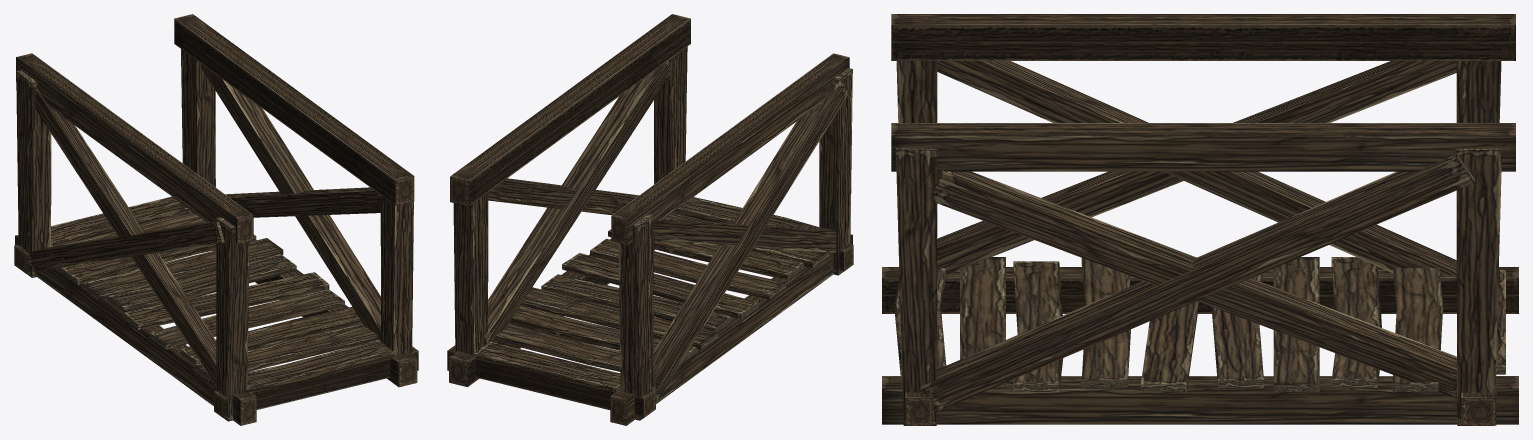
File: Bridge_4X8_02.fbx
3 renders of one model, left to right at view 1: azimuth 30°, elevation 25°; view 2: azimuth 150°, elevation 25°; view 3: azimuth 270°, elevation 25°, orthographic. The views are drawn at different scales.
Visible parts, largest first — view 1: Bridge_4X8_Deck_02, Side_02, Side_01; view 2: Side_02, Bridge_4X8_Deck_02, Side_01; view 3: Side_01, Bridge_4X8_Deck_02, Side_02.
Boxes of the visible parts, left/top/right/bottom form: Bridge_4X8_Deck_02: left=14, top=196, right=418, bottom=425; Side_02: left=16, top=53, right=253, bottom=421; Side_01: left=174, top=14, right=414, bottom=355; Side_02: left=611, top=53, right=852, bottom=420; Bridge_4X8_Deck_02: left=447, top=197, right=853, bottom=425; Side_01: left=450, top=14, right=690, bottom=354; Side_01: left=891, top=123, right=1515, bottom=425; Bridge_4X8_Deck_02: left=882, top=257, right=1518, bottom=425; Side_02: left=891, top=14, right=1515, bottom=275.
Size of the model in its own units: 4 by 4 by 8.
